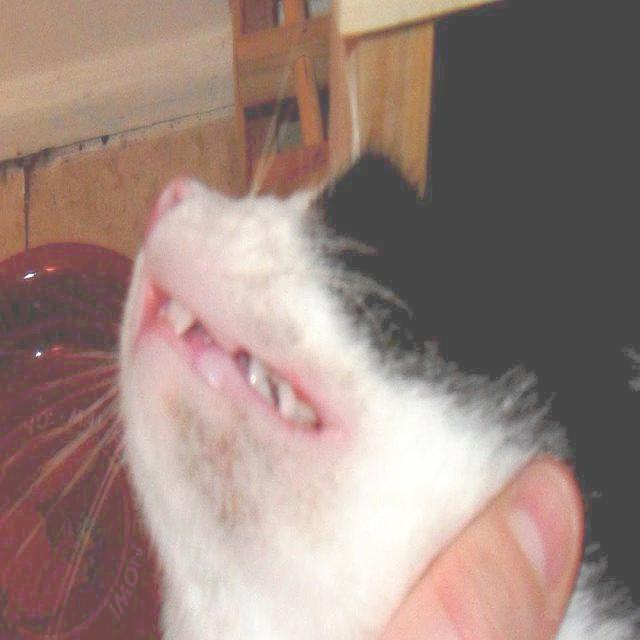acne: (170, 405, 269, 537)
